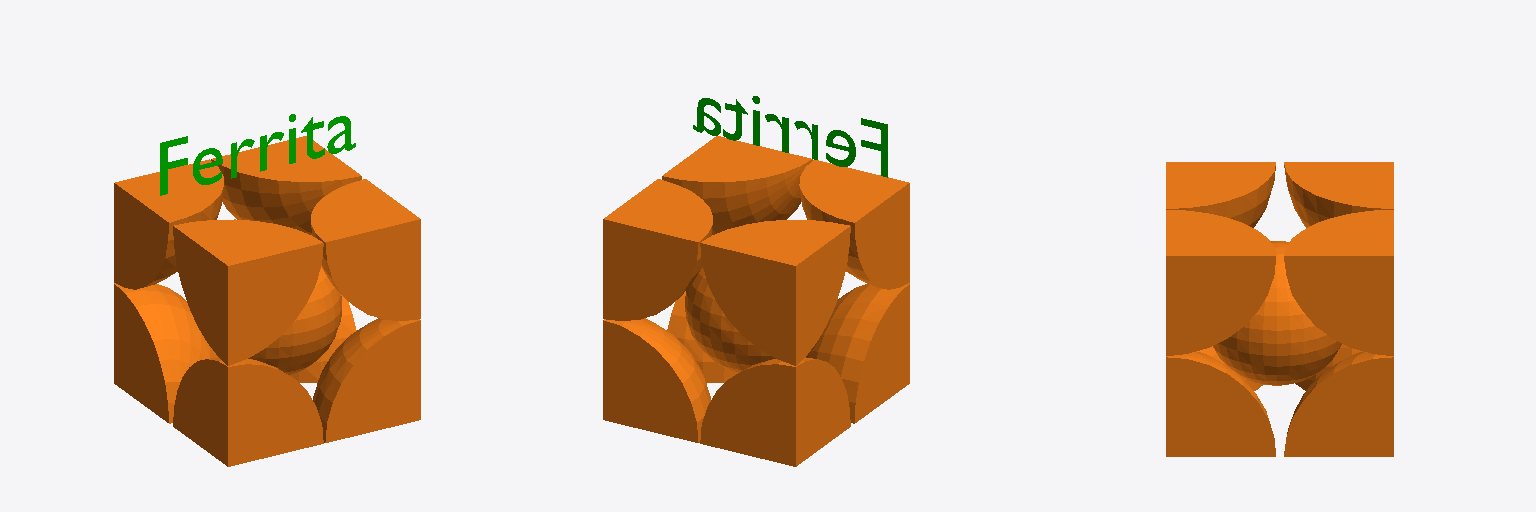
The model's file is ferrita.obj.
3 renders of one model, left to right at view 1: azimuth 30°, elevation 25°; view 2: azimuth 150°, elevation 25°; view 3: azimuth 270°, elevation 25°, orthographic.
Visible parts, largest first — view 1: Sphere.292_Sphere.230, Sphere.291_Sphere.227, Sphere.294_Sphere.232, Sphere.293_Sphere.231, Sphere.295_Sphere.233, Sphere.296_Sphere.234, Sphere.298_Sphere.236, Sphere.302_Sphere.240, Text.001_Text.054, Sphere.297_Sphere.235; view 2: Sphere.296_Sphere.234, Sphere.295_Sphere.233, Sphere.298_Sphere.236, Sphere.297_Sphere.235, Sphere.292_Sphere.230, Sphere.291_Sphere.227, Sphere.294_Sphere.232, Sphere.302_Sphere.240, Text.001_Text.054, Sphere.293_Sphere.231; view 3: Sphere.294_Sphere.232, Sphere.298_Sphere.236, Sphere.293_Sphere.231, Sphere.297_Sphere.235, Sphere.302_Sphere.240, Sphere.292_Sphere.230, Sphere.296_Sphere.234.
Part boxes in pixels (x1,y1,x2,y2): Sphere.292_Sphere.230: (173, 219, 323, 365); Sphere.291_Sphere.227: (173, 358, 323, 466); Sphere.294_Sphere.232: (311, 179, 420, 320); Sphere.293_Sphere.231: (313, 318, 420, 442); Sphere.295_Sphere.233: (114, 283, 218, 423); Sphere.296_Sphere.234: (114, 159, 223, 289); Sphere.298_Sphere.236: (211, 136, 361, 234); Sphere.302_Sphere.240: (212, 266, 341, 374); Text.001_Text.054: (160, 114, 355, 195); Sphere.297_Sphere.235: (289, 295, 356, 382); Sphere.296_Sphere.234: (700, 220, 850, 365); Sphere.295_Sphere.233: (700, 357, 850, 466); Sphere.298_Sphere.236: (603, 179, 712, 320); Sphere.297_Sphere.235: (603, 318, 710, 442); Sphere.292_Sphere.230: (799, 160, 909, 289); Sphere.291_Sphere.227: (806, 283, 909, 423); Sphere.294_Sphere.232: (662, 136, 812, 234); Sphere.302_Sphere.240: (685, 266, 820, 372); Text.001_Text.054: (693, 96, 887, 177); Sphere.293_Sphere.231: (667, 291, 737, 382); Sphere.294_Sphere.232: (1166, 210, 1275, 355); Sphere.298_Sphere.236: (1284, 210, 1393, 355); Sphere.293_Sphere.231: (1166, 351, 1275, 456); Sphere.297_Sphere.235: (1284, 351, 1393, 456); Sphere.302_Sphere.240: (1213, 241, 1341, 385); Sphere.292_Sphere.230: (1166, 162, 1275, 227); Sphere.296_Sphere.234: (1284, 162, 1393, 227).
Size of the model in its own units: 4.48 by 5.89 by 4.1.